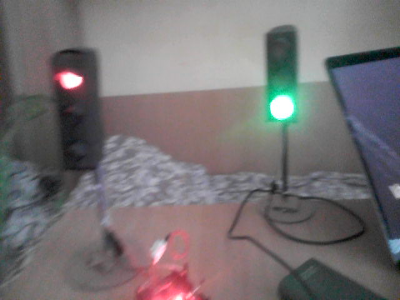trafficlight_green: (267, 33, 296, 120)
trafficlight_red: (52, 52, 95, 170)
